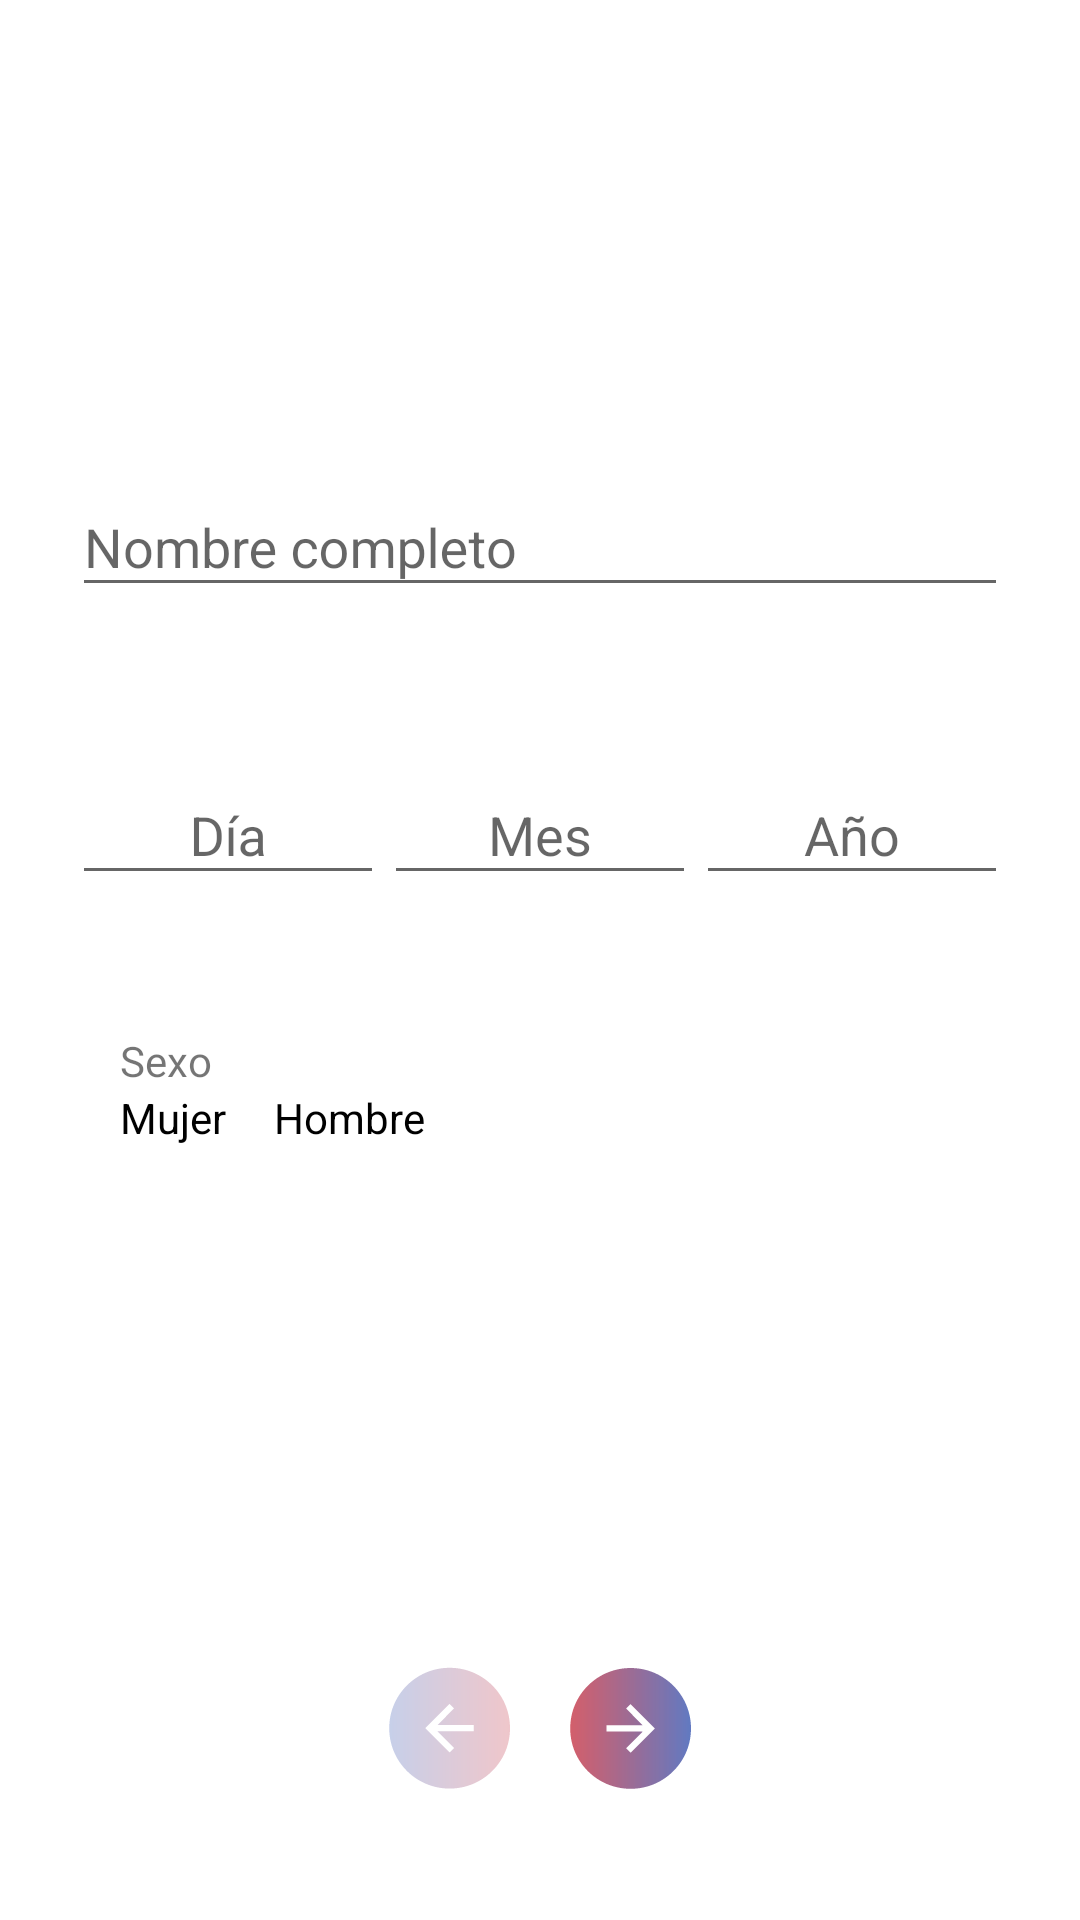

Where to tap for icons on this 1080x1920 app screen, as (x=x, y=y):
back: (x=449, y=1728)
next: (x=630, y=1728)
